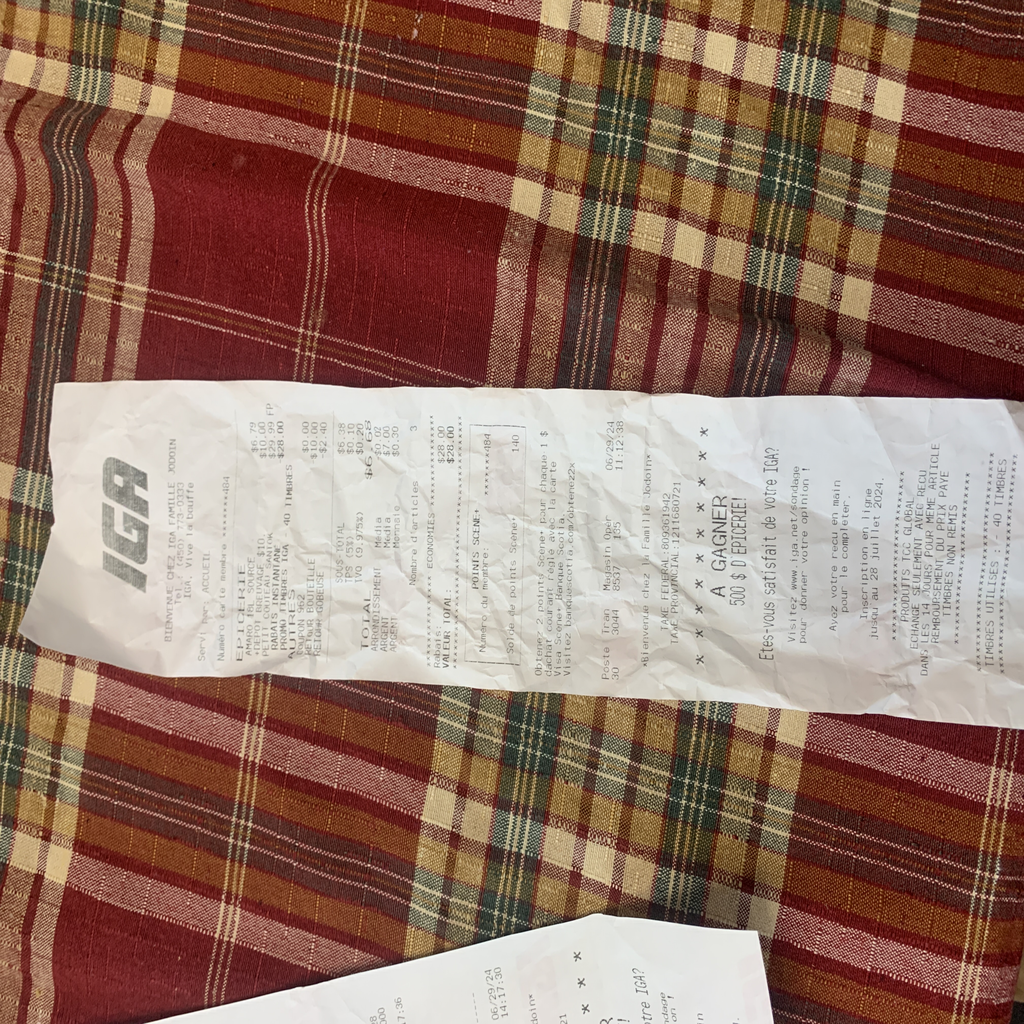recipt: (21, 382, 1022, 726)
